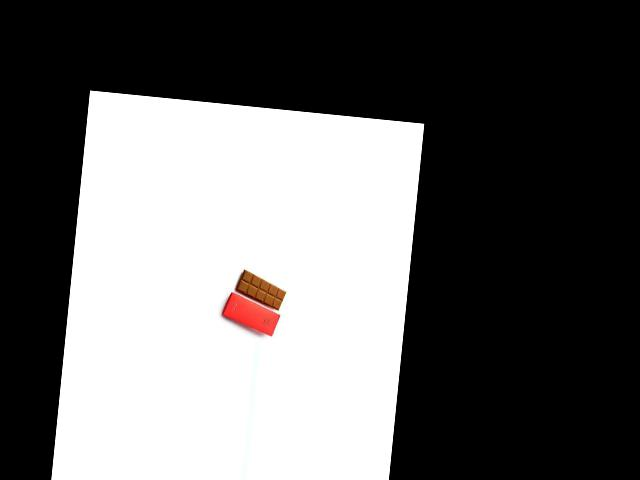chocolate: (231, 268, 288, 313)
